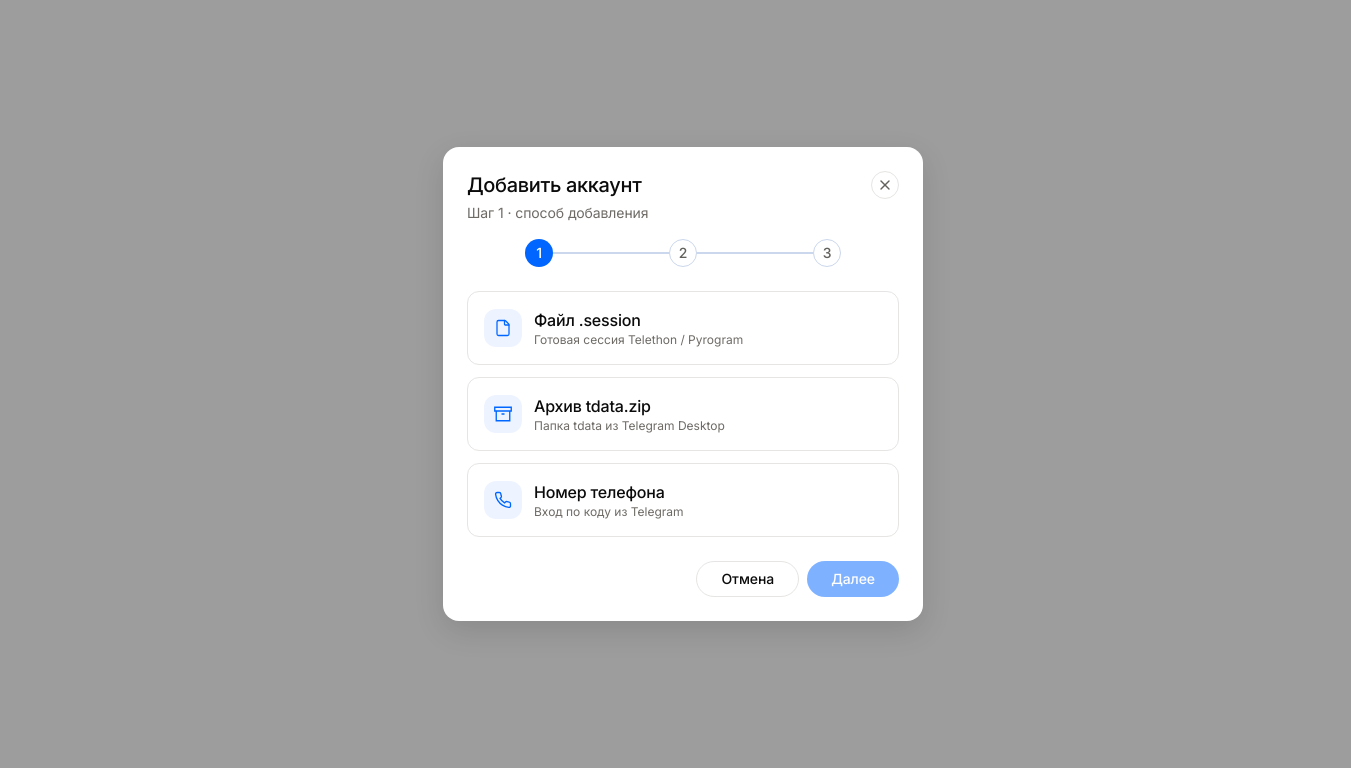
Test case: tdata offers desktop or both, never mobile only
The image size is (1366, 768).
Click the text "Номер телефона".
click(599, 492)  # box x1=534 y1=482 x2=665 y2=502
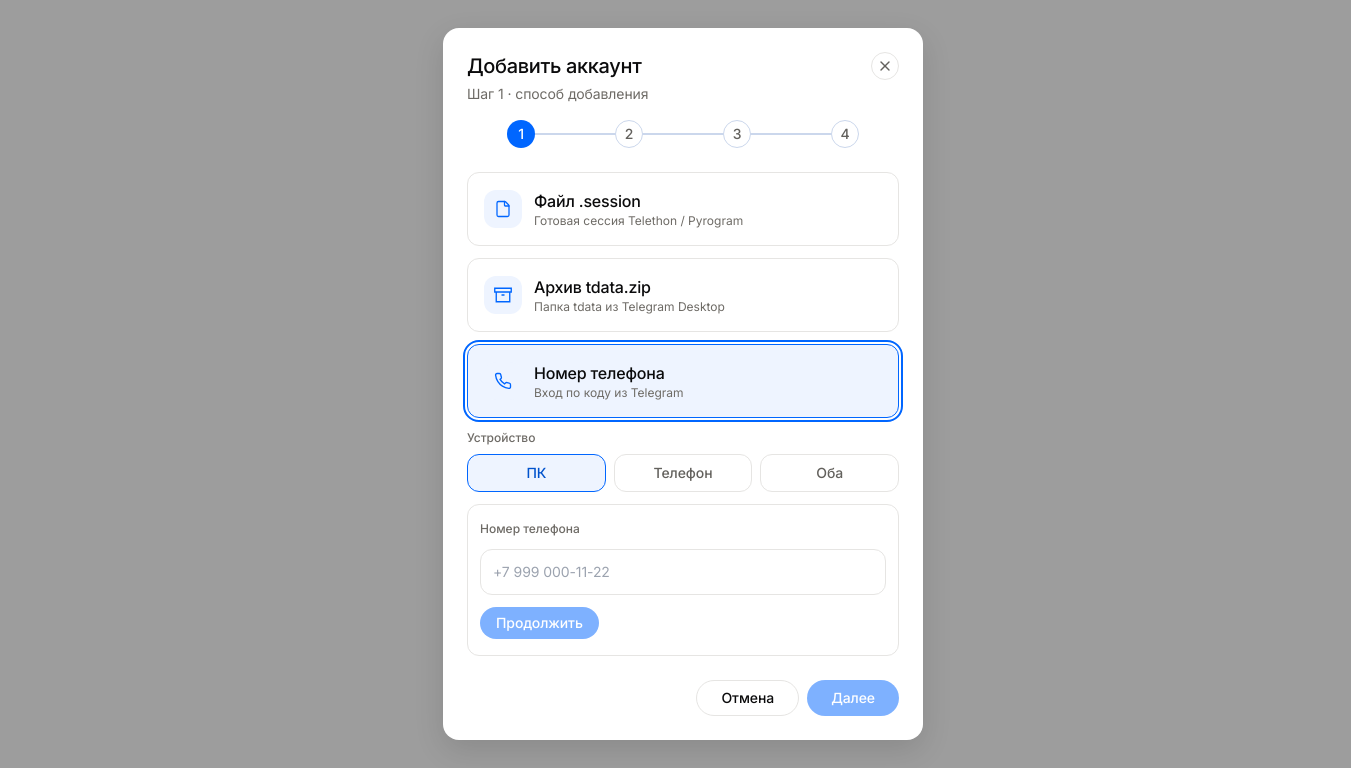
Click the radio button labelled "Телефон".
click(683, 473)  # box x1=614 y1=454 x2=752 y2=492
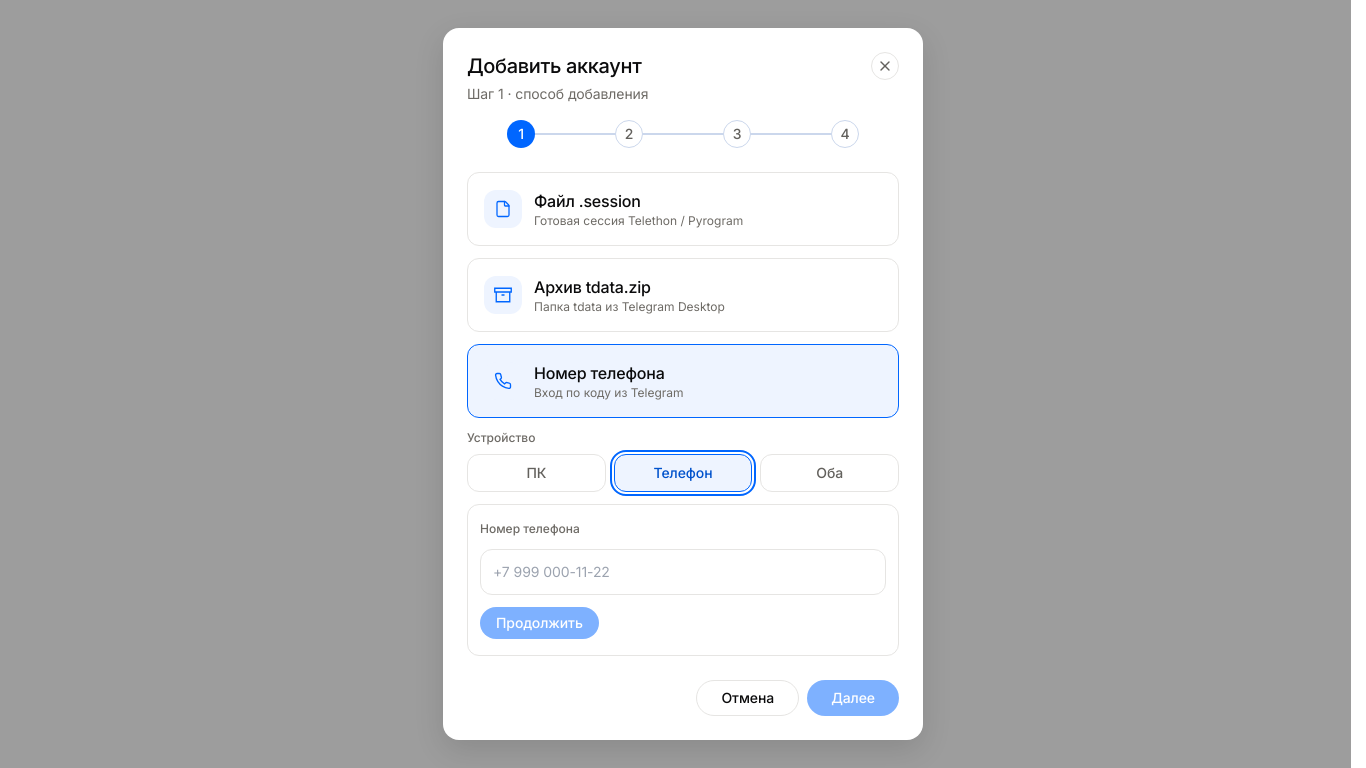
Click the text "Архив tdata.zip".
click(592, 287)  # box x1=534 y1=277 x2=651 y2=297
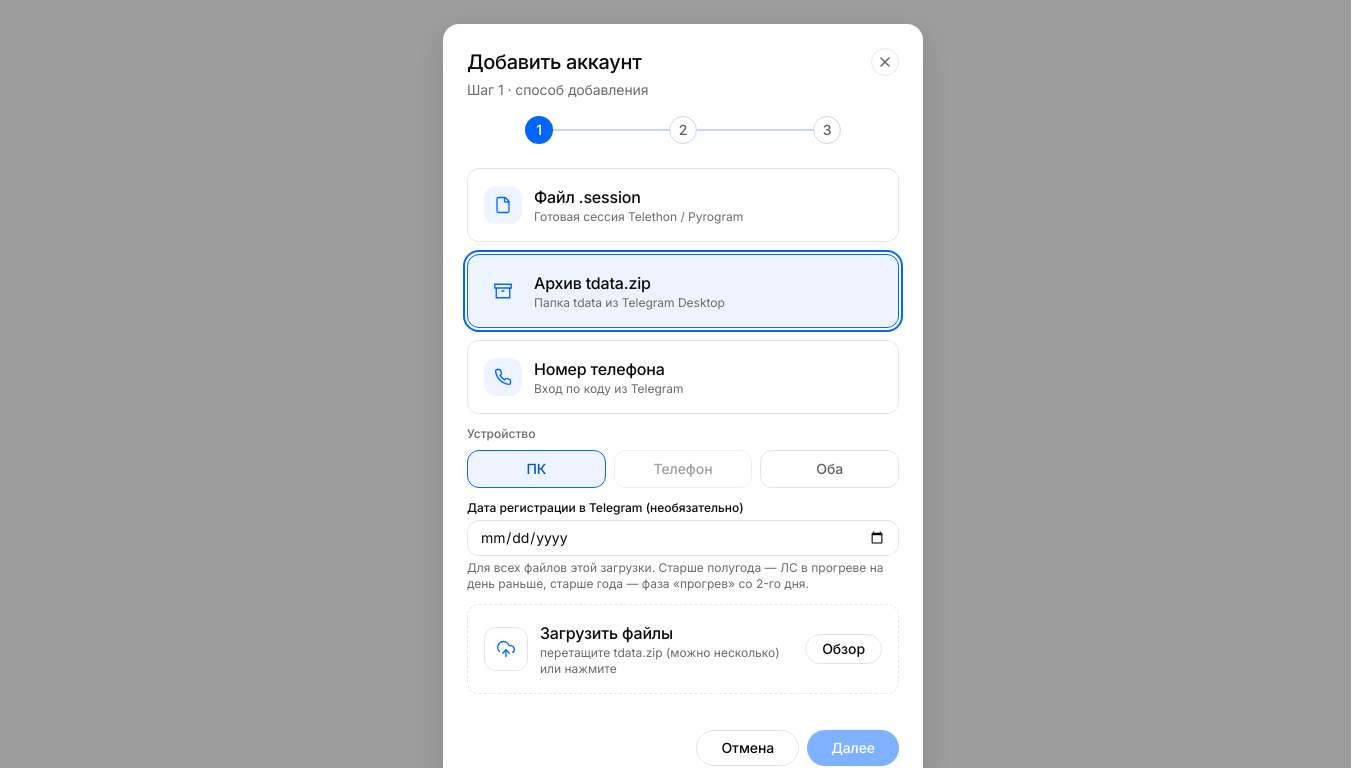
Expected: the radio button labelled "Телефон" is disabled, x1=614 y1=450 x2=752 y2=488
Expected: the radio button labelled "ПК" is checked, x1=467 y1=450 x2=606 y2=488
